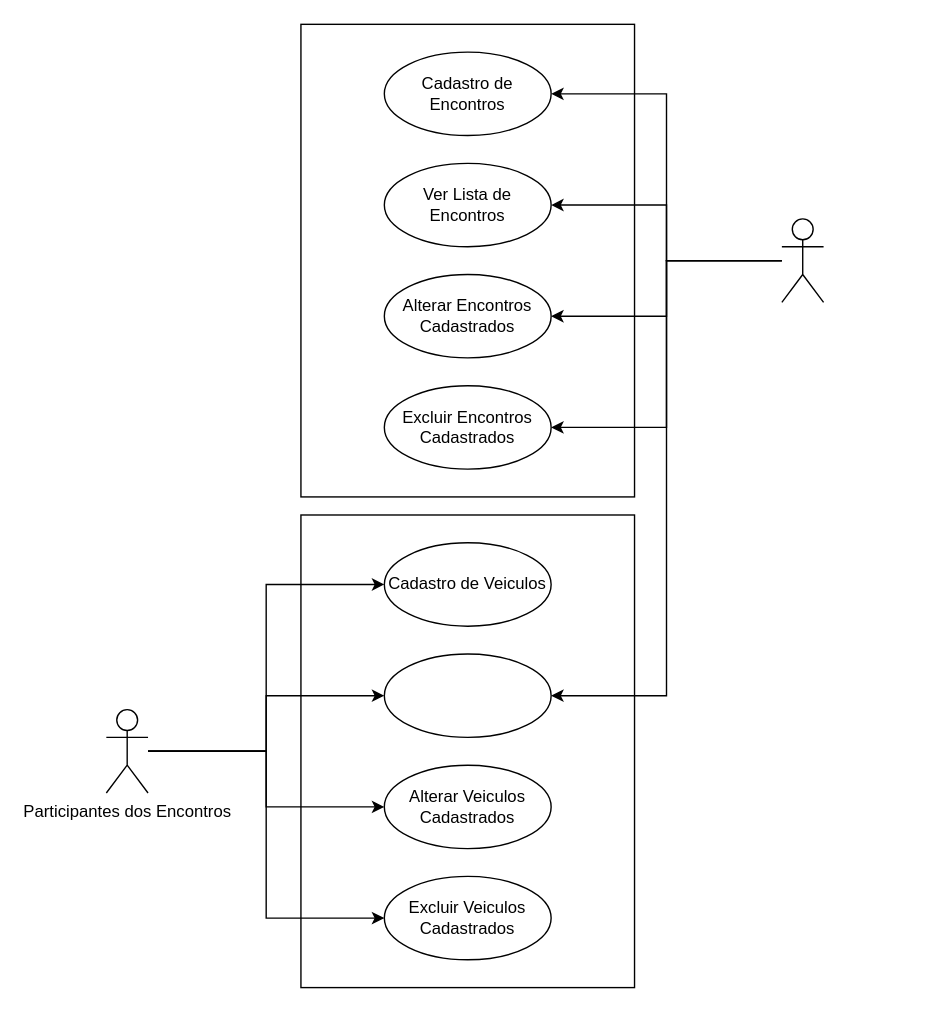
The diagram is 929 pixels wide and 1012 high, and some of its shapes have lost their labels. Each missing label, with the box of its shape:
Controle de Encontros: (300, 23, 635, 497)
Controle de Veiculos: (300, 514, 635, 988)
Organizador dos Encontros: (780, 218, 824, 302)
Ver Lista de Veiculos: (383, 653, 551, 737)
